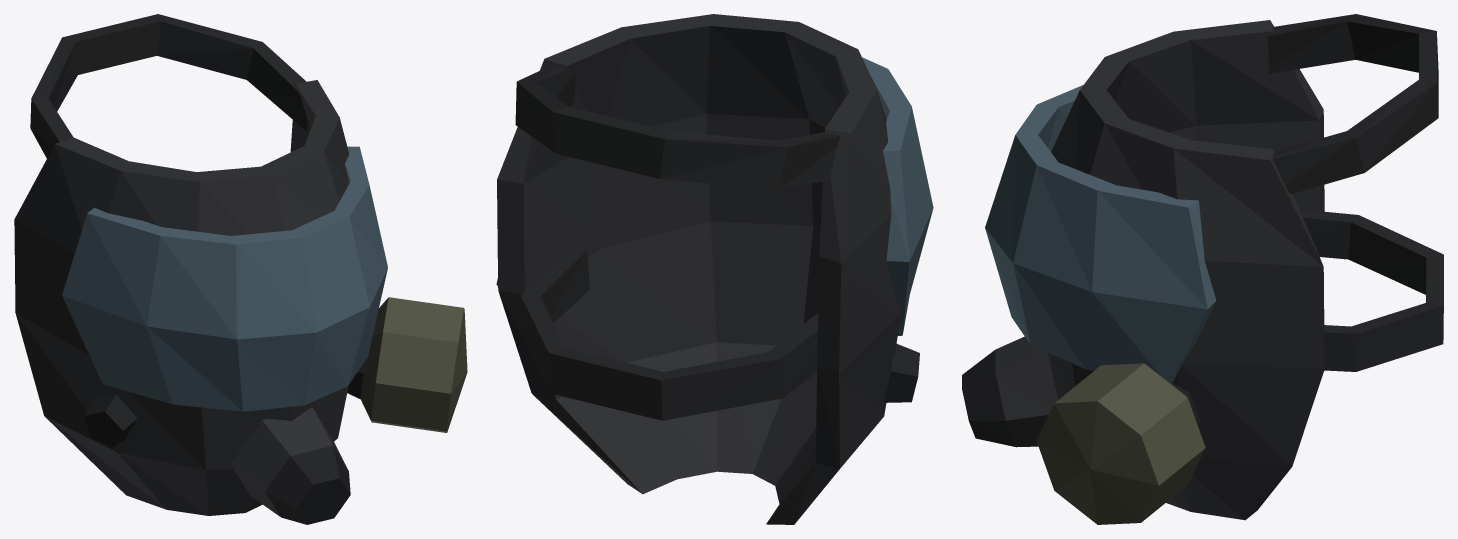
File: braith_mcu2p_mask.glb
The picture shows the model from 3 angles, left to right: view 1: azimuth 30°, elevation 25°; view 2: azimuth 150°, elevation 25°; view 3: azimuth 270°, elevation 25°; orthographic projection. The views are drawn at different scales.
Visible parts, largest first — view 1: braith_mcu2p_mask; view 2: braith_mcu2p_mask; view 3: braith_mcu2p_mask.
Boxes of the visible parts, left/top/right/bottom form: braith_mcu2p_mask: left=14, top=14, right=467, bottom=524; braith_mcu2p_mask: left=496, top=14, right=933, bottom=524; braith_mcu2p_mask: left=962, top=14, right=1443, bottom=524.
Bounding box in the file's own units: 0.2506 × 0.2475 × 0.254.
